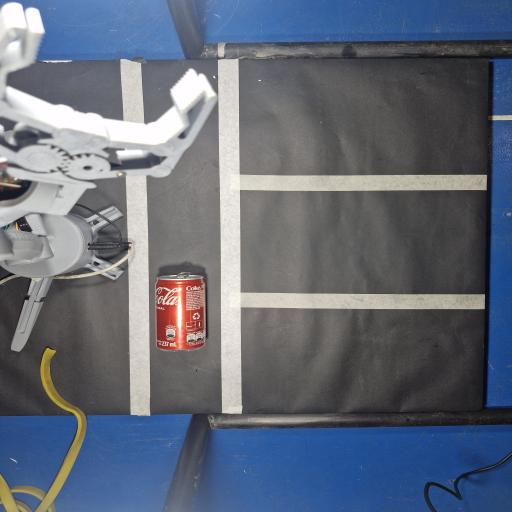lata: (155, 273, 206, 351)
